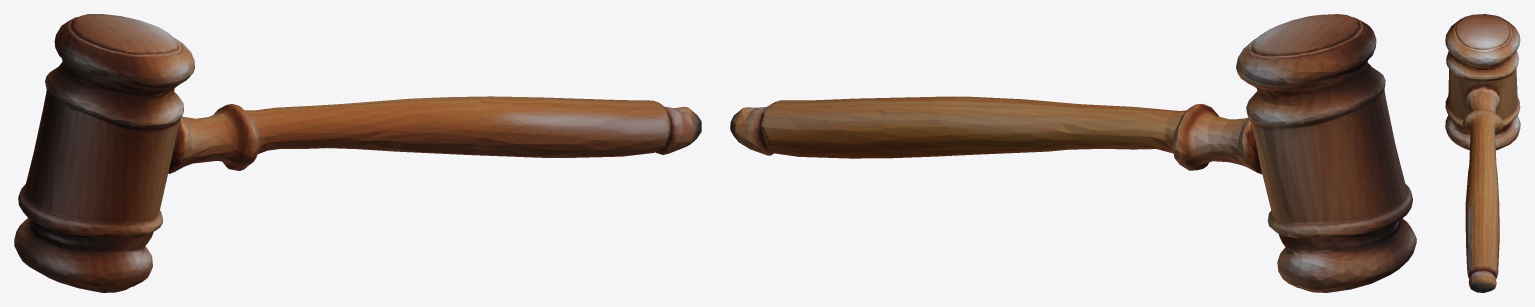
File: gavel.glb
The picture shows the model from 3 angles, left to right: view 1: azimuth 30°, elevation 25°; view 2: azimuth 150°, elevation 25°; view 3: azimuth 270°, elevation 25°; orthographic projection. The views are drawn at different scales.
Parts seen in each view (by area): view 1: world; view 2: world; view 3: world.
Boxes of the visible parts, bbox=[...] form: world: bbox=[14, 14, 701, 292]; world: bbox=[730, 14, 1416, 292]; world: bbox=[1445, 14, 1520, 292].
Bounding box in the file's own units: 20 × 7.41 × 3.82.
Materials: 1 (1 with a texture image).
